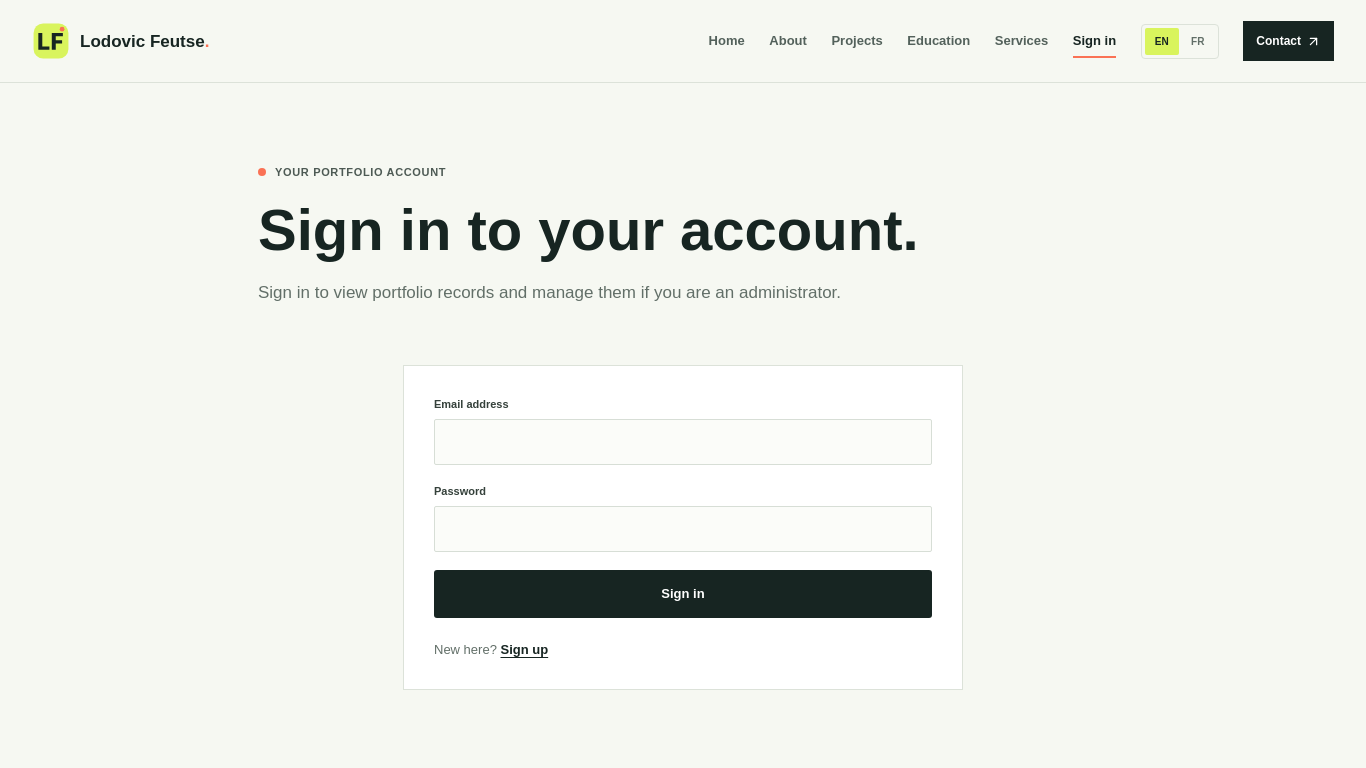
authentication and dashboard › signs in, loads read-only records and signs out
Type "alex@example.test" into the field labelled "Email address" at (683, 442), box [434, 419, 932, 465]
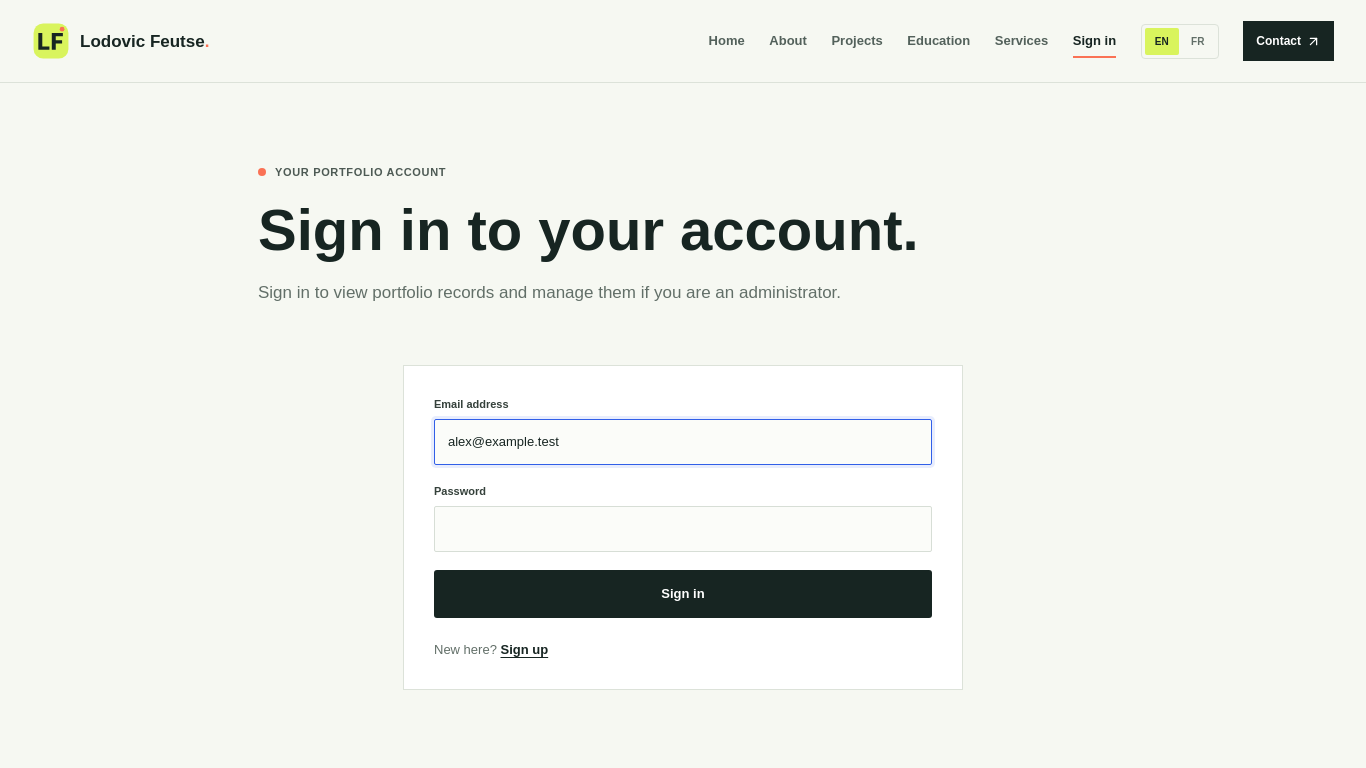
Type "password" into the password field labelled "Password" at (683, 529), box [434, 506, 932, 552]
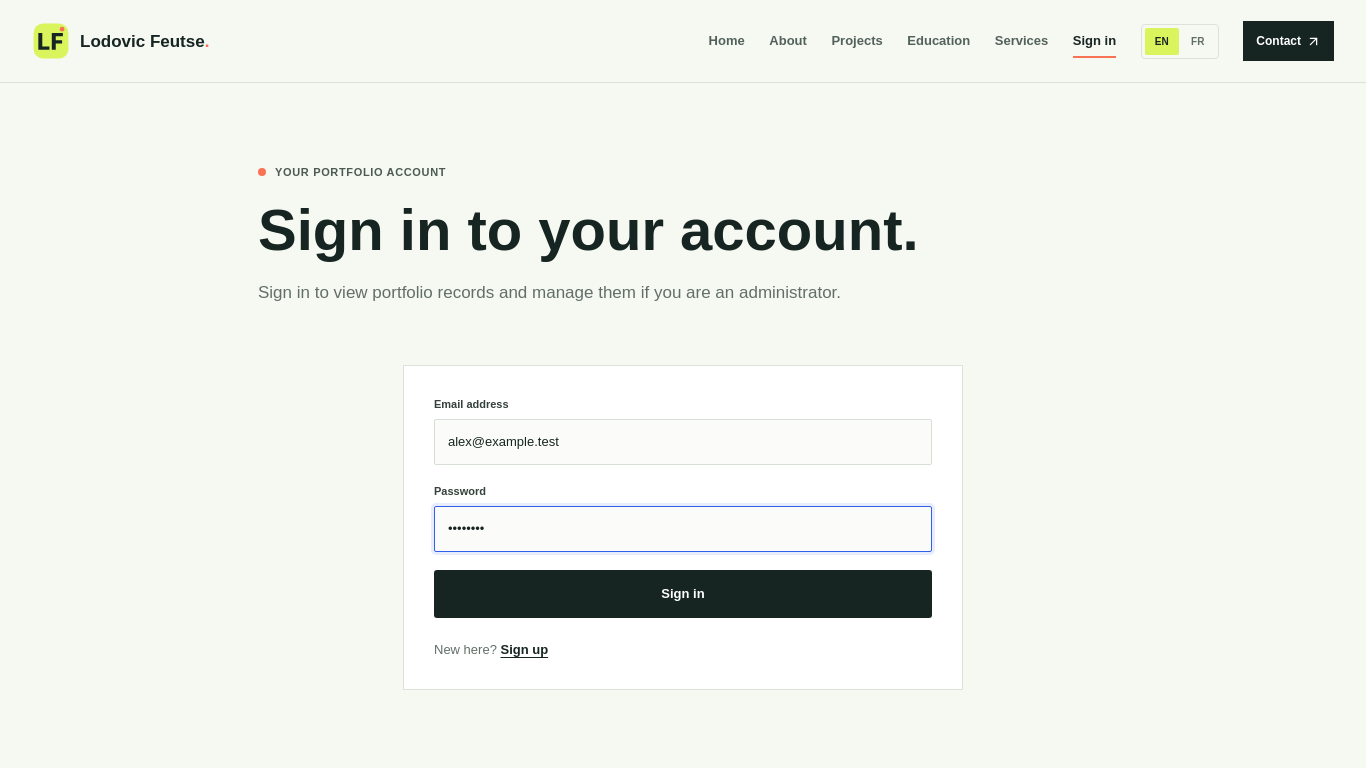
Click the button "Sign in" at (683, 594), box [434, 570, 932, 618]
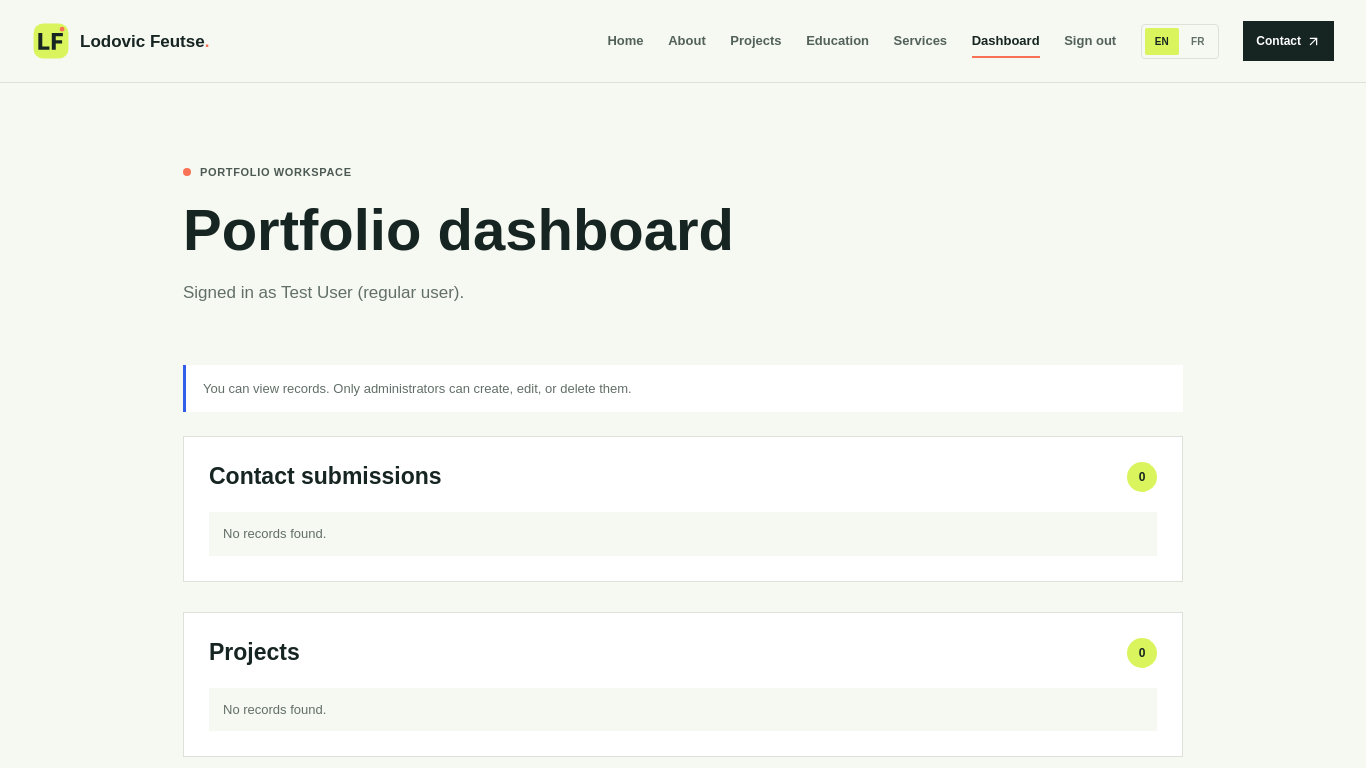
Result: the text "Only administrators can create, edit, or delete" is shown at [203, 381, 632, 396]
Click the button "Sign out" at (1090, 41), box [1064, 23, 1116, 59]
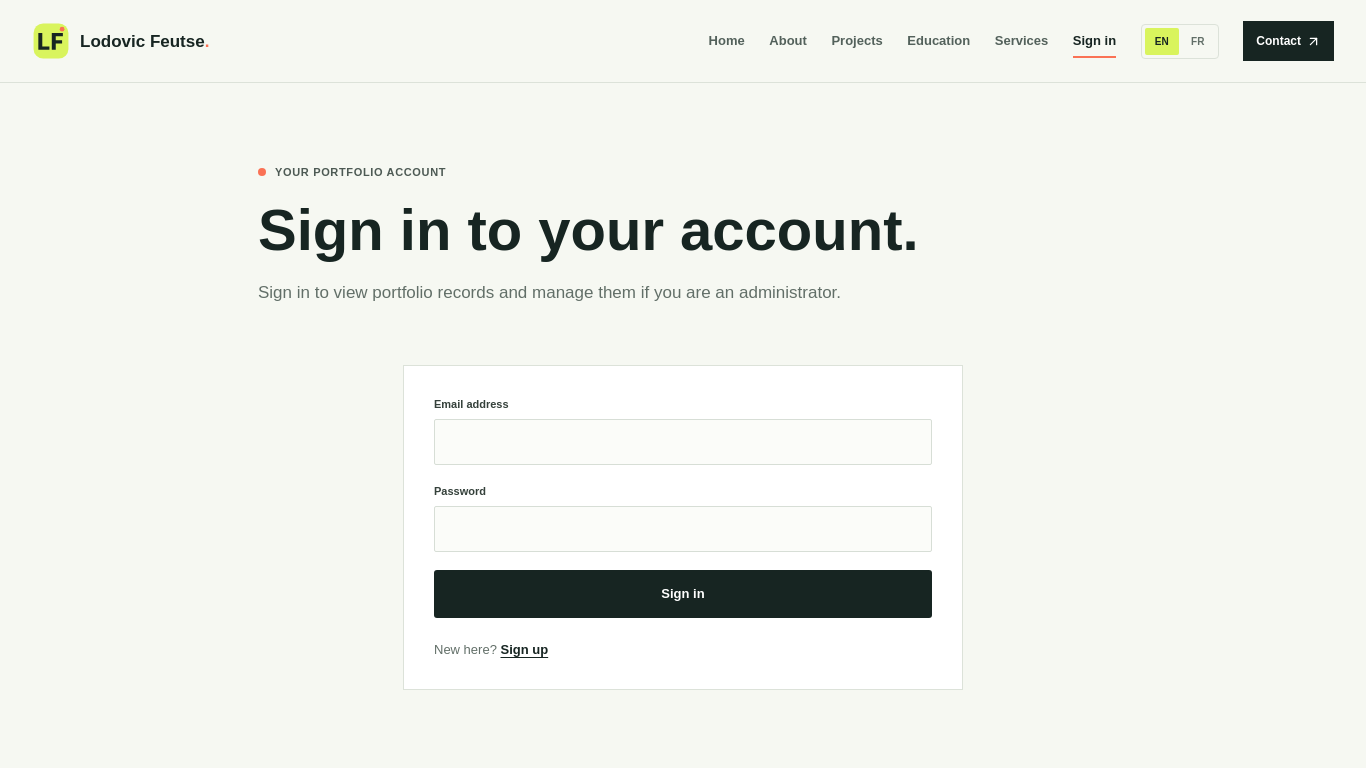
Result: the heading "Sign in to your account." is shown at [258, 196, 919, 262]
